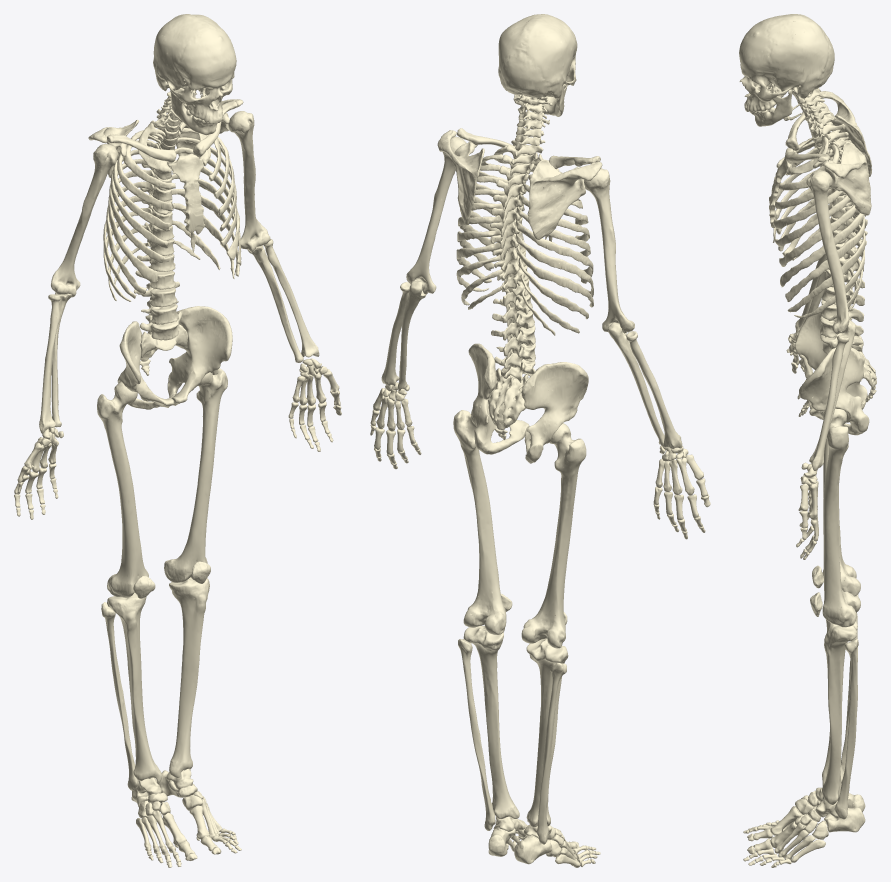
Rendered from Model_Skeleton.glb.
The picture shows the model from 3 angles, left to right: view 1: azimuth 30°, elevation 25°; view 2: azimuth 150°, elevation 25°; view 3: azimuth 270°, elevation 25°; orthographic projection.
Visible parts, largest first — view 1: Cranium, r_femur, l_femur, l_oscoxa, l_tibia, r_tibia, r_humerus, l_humerus, r_oscoxa, Sternum, r_fibula, r_radius (+14 smaller); view 2: Cranium, r_femur, l_femur, r_oscoxa, l_tibia, r_scapula, r_tibia, l_oscoxa, r_humerus, l_humerus, l_scapula, Sacrum (+10 smaller); view 3: Cranium, l_femur, l_tibia, l_oscoxa, l_humerus, l_scapula, l_fibula, r_oscoxa, l_radius, r_scapula, r_femur, l_rib8 (+23 smaller).
Boxes of the visible parts, <box> form: Cranium: <box>153,14,236,123</box>; r_femur: <box>97,382,148,597</box>; l_femur: <box>164,368,227,582</box>; l_oscoxa: <box>167,306,232,405</box>; l_tibia: <box>169,577,209,778</box>; r_tibia: <box>107,592,161,782</box>; r_humerus: <box>51,144,118,297</box>; l_humerus: <box>228,111,270,252</box>; r_oscoxa: <box>117,321,174,409</box>; Sternum: <box>168,153,205,234</box>; r_fibula: <box>101,602,138,790</box>; r_radius: <box>39,294,60,433</box>; Cranium: <box>498,14,577,99</box>; r_femur: <box>521,423,586,648</box>; l_femur: <box>453,410,506,634</box>; r_oscoxa: <box>521,362,588,463</box>; l_tibia: <box>463,625,519,818</box>; r_scapula: <box>527,159,602,239</box>; r_tibia: <box>526,638,568,827</box>; l_oscoxa: <box>468,343,529,454</box>; r_humerus: <box>584,168,634,333</box>; l_humerus: <box>406,136,466,294</box>; l_scapula: <box>437,130,484,225</box>; Sacrum: <box>488,368,528,429</box>; Cranium: <box>739,14,834,112</box>; l_femur: <box>822,408,860,627</box>; l_tibia: <box>822,621,857,804</box>; l_oscoxa: <box>799,347,869,435</box>; l_humerus: <box>806,170,849,334</box>; l_scapula: <box>813,141,871,215</box>; l_fibula: <box>834,638,858,819</box>; r_oscoxa: <box>795,313,867,409</box>; l_radius: <box>809,335,849,470</box>; r_scapula: <box>819,91,871,176</box>; r_femur: <box>822,439,860,596</box>; l_rib8: <box>785,206,865,302</box>.
Size of the model in its own units: 0.6584 by 1.58 by 0.2363.
